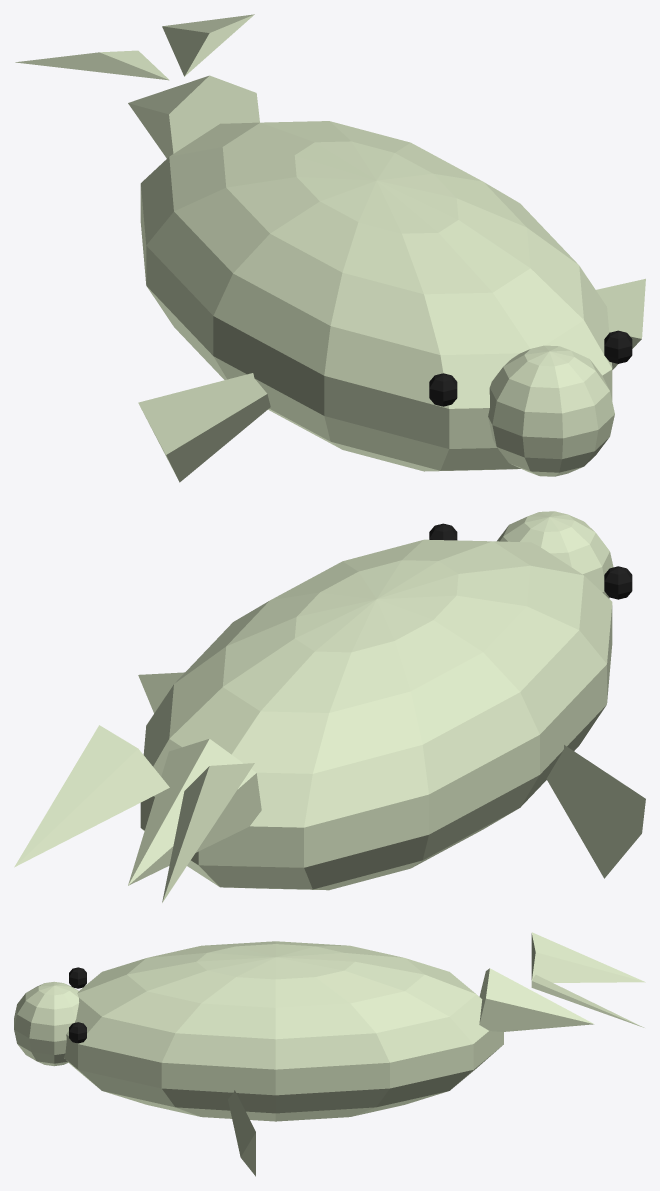
Rendered from swamp_whale.glb.
3 renders of one model, top to bottom at view 1: azimuth 30°, elevation 25°; view 2: azimuth 150°, elevation 25°; view 3: azimuth 270°, elevation 25°, orthographic. The views are drawn at different scales.
Visible parts, largest first — view 1: n1, n3, n10, n14, n18, n16, n12, n5, n7; view 2: n1, n18, n14, n10, n3, n16, n12, n5; view 3: n1, n3, n14, n16, n12, n18.
Boxes of the visible parts, box(x1,y1,x2,y2) form: n1: box(140, 121, 612, 471); n3: box(488, 345, 614, 476); n10: box(138, 373, 270, 482); n14: box(128, 75, 259, 158); n18: box(162, 14, 254, 76); n16: box(15, 50, 169, 80); n12: box(596, 278, 645, 369); n5: box(429, 373, 457, 406); n7: box(604, 330, 632, 363); n1: box(140, 539, 612, 890); n18: box(14, 725, 169, 867); n14: box(128, 738, 261, 885); n10: box(546, 745, 645, 878); n3: box(497, 511, 613, 598); n16: box(162, 763, 254, 902); n12: box(138, 672, 184, 713); n5: box(604, 566, 632, 599); n1: box(63, 941, 503, 1121); n3: box(14, 981, 79, 1066); n14: box(479, 968, 594, 1031); n16: box(531, 932, 645, 982); n12: box(228, 1090, 255, 1176); n18: box(531, 975, 644, 1027).
Bounding box in the file's own units: 5.51 × 2.49 × 9.27.
